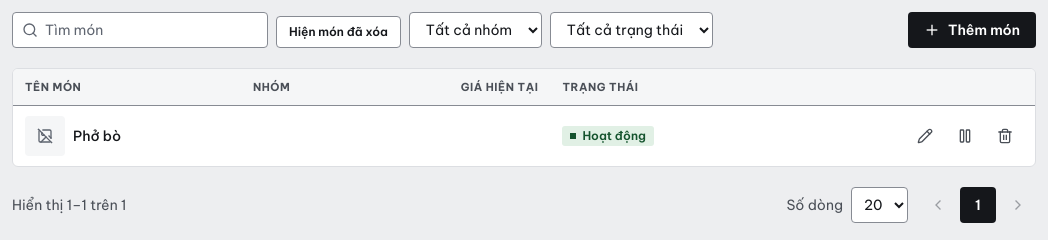
Test: catalog screens › shows an empty-result row and clears filters on reset
Expected: the text "Phở bò" is shown, [73,126,121,146]
In the search field labelled "Tìm món": {"x": 140, "y": 30} [12,12,268,48], type "không tồn tại"
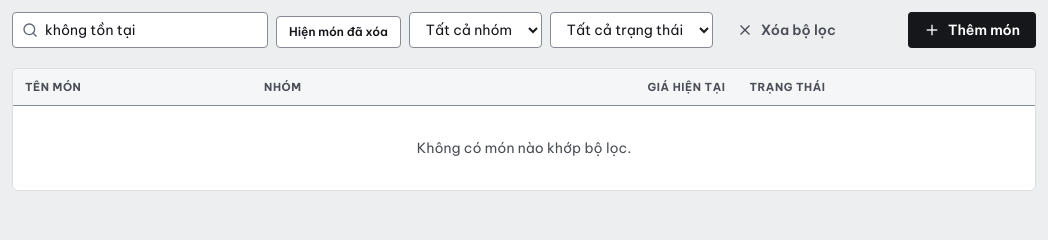
Expected: the text "Không có món nào khớp bộ lọc." is shown, [13,106,1035,190]
Click the button "Xóa bộ lọc": {"x": 786, "y": 30} [721,12,852,48]
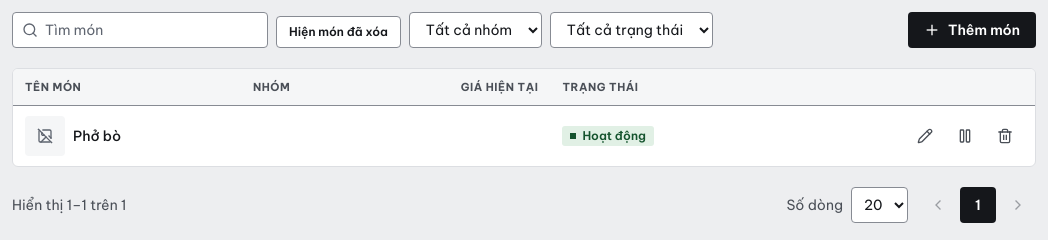
Expected: the text "Phở bò" is shown, [73,126,121,146]
